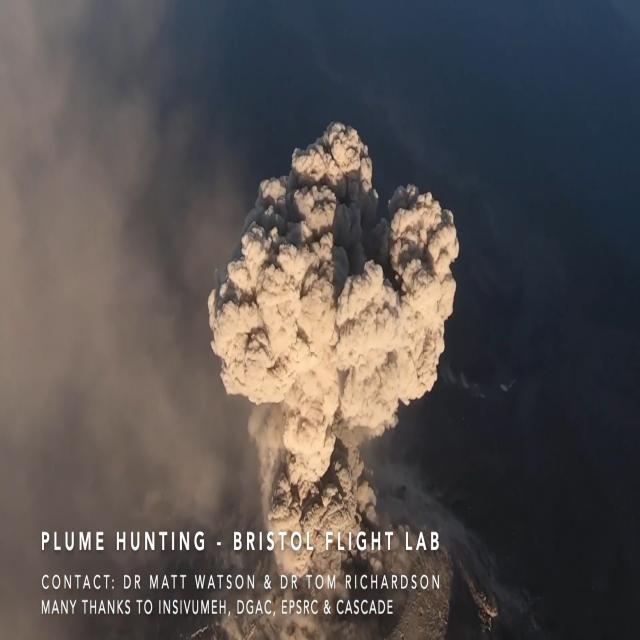Plume: (203, 109, 466, 581)
